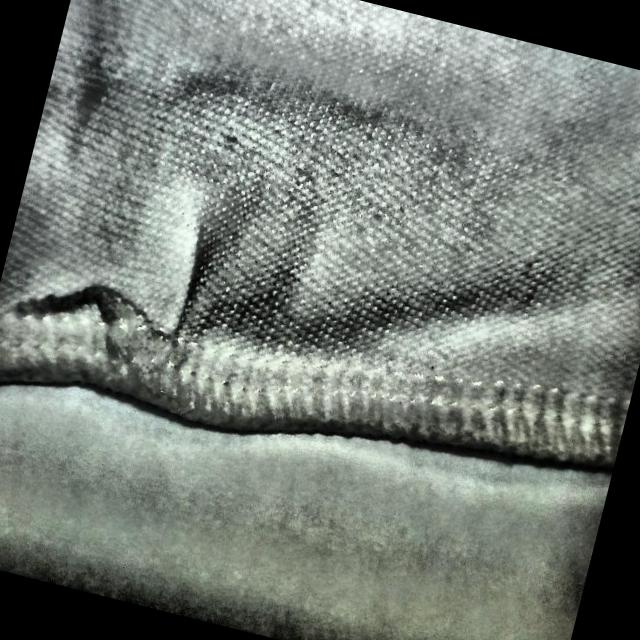gray stitch: (8, 204, 240, 420)
